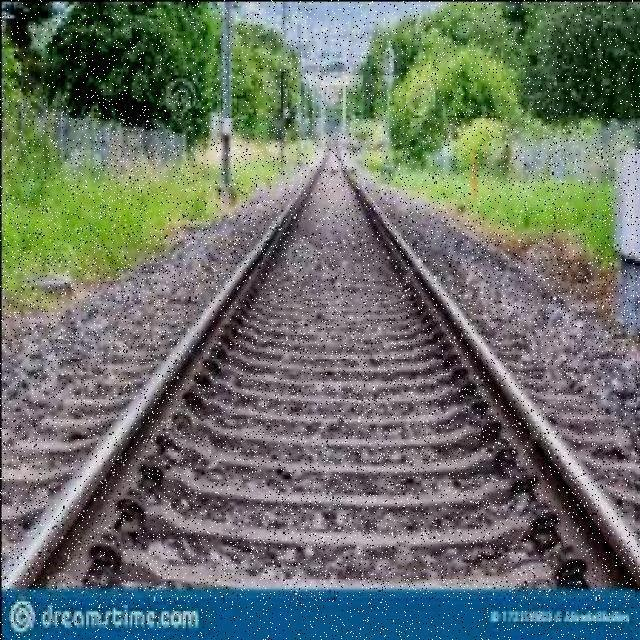rail: (2, 119, 636, 599)
